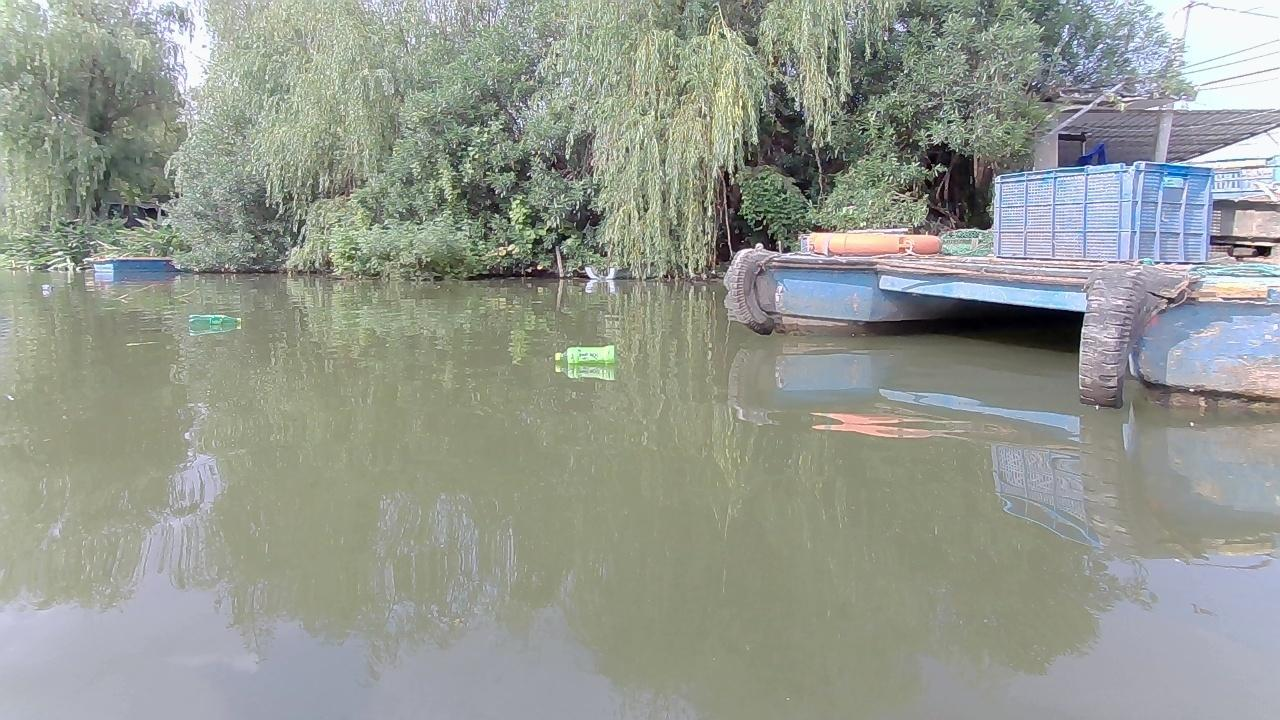bottle: (551, 343, 615, 374), (184, 312, 245, 329), (39, 283, 56, 298)
